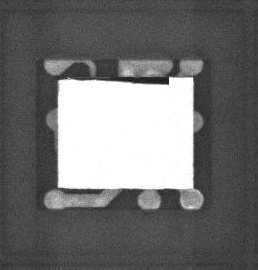DIE_BROKEN: (66, 74, 171, 87)
